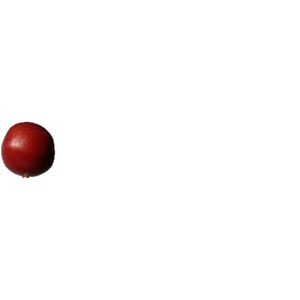maçã braeburn: (1, 120, 56, 180)
